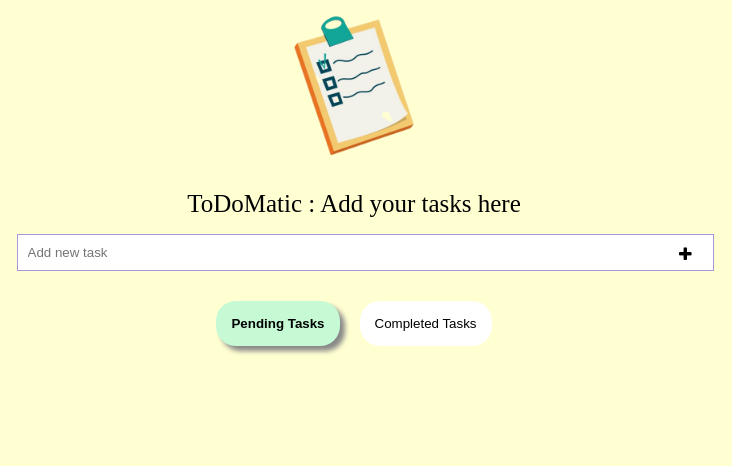
Test: Rendering of elements of component - ToDoIem component on adding an Item using the input field › rendering of item that has been added to the list using the inout field
The width and height of the screenshot is (732, 466).
In the field with test id "input-field": point(365, 252) [16,234,714,271], type "Homework at 4PM"
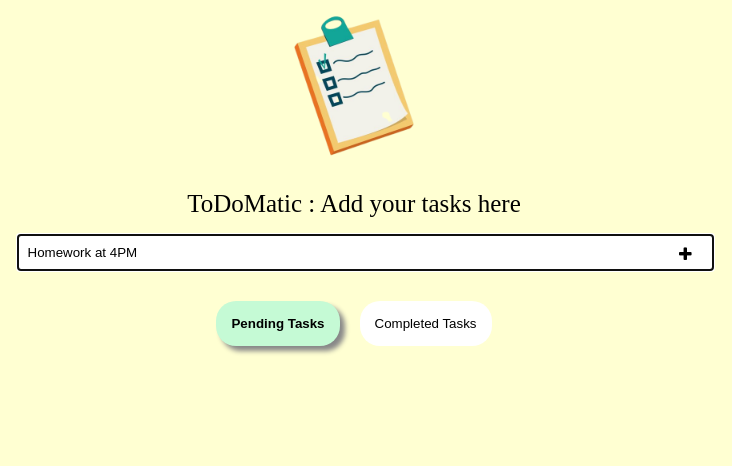
Click the icon with test id "plus icon": point(685, 254) [679,246,692,262]
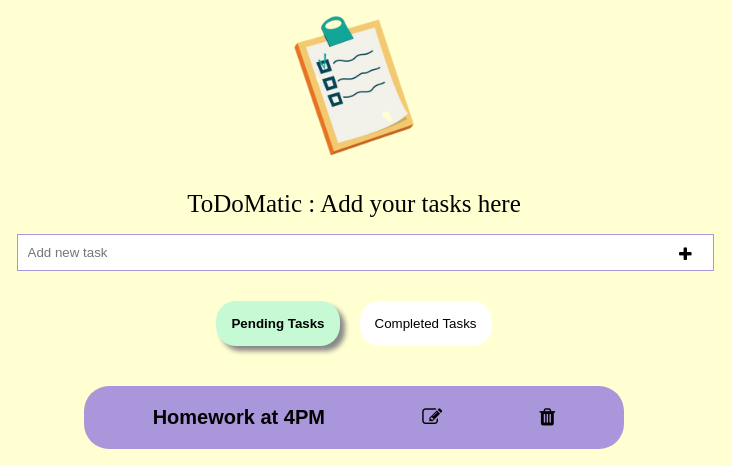
Expected: the button "Homework at 4PM" is shown, [84,386,624,449]
